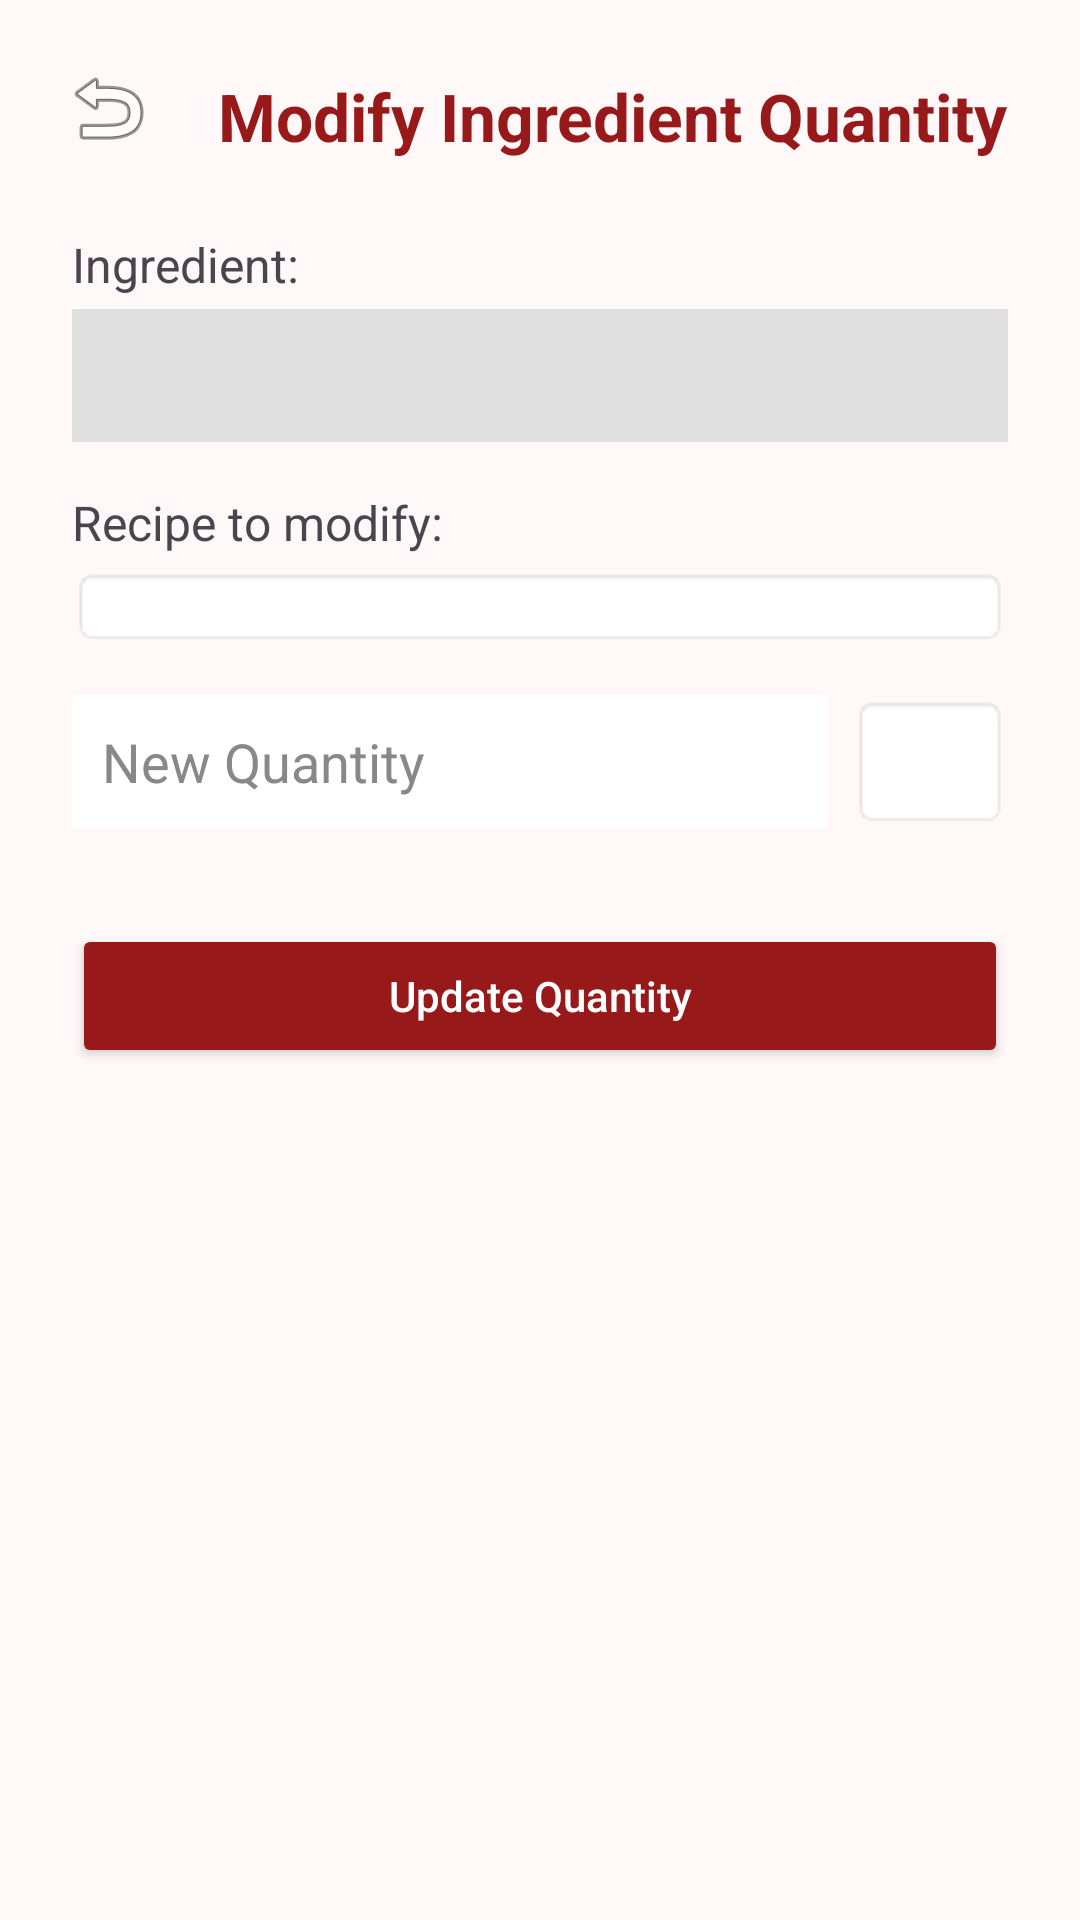

Where icons sit on this 1080px×1920px app screen, as (x1, y1, x2, y2):
Back: (75, 77, 144, 140)
